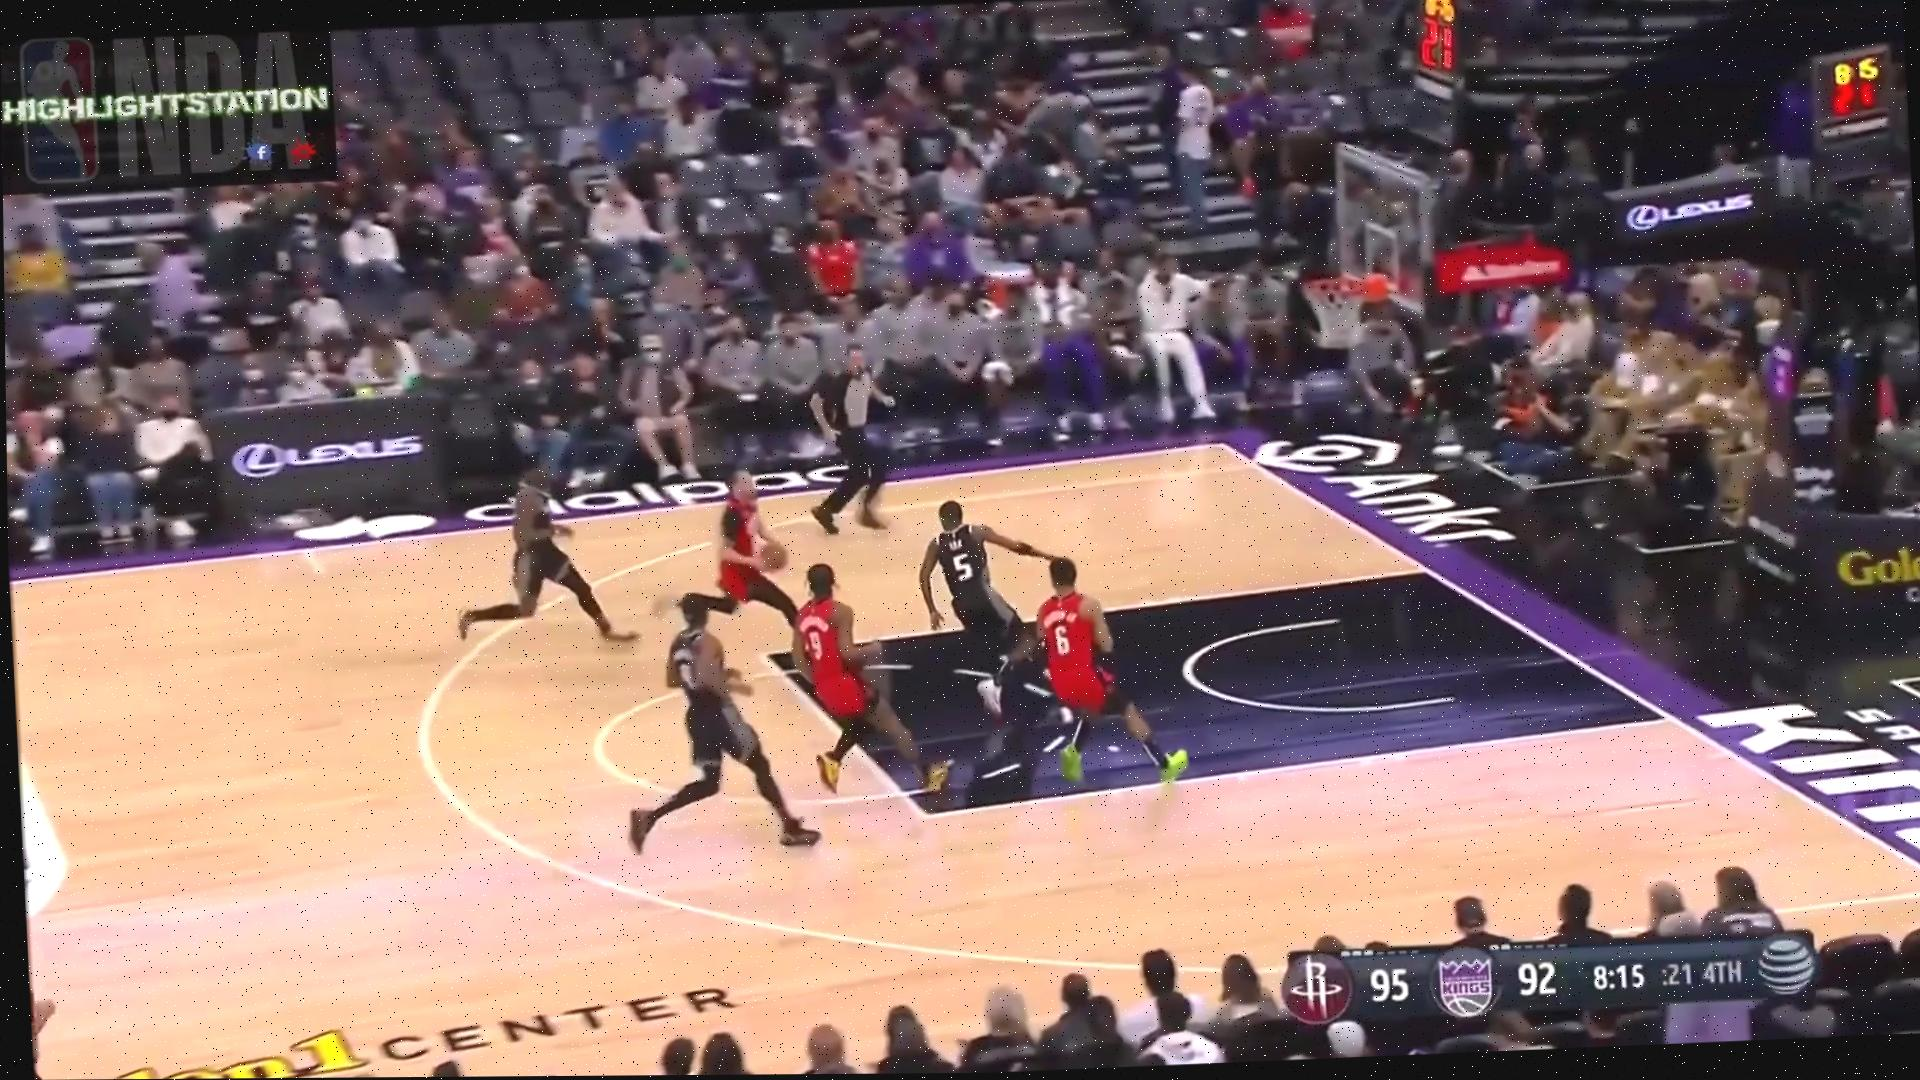no_foul: (924, 485, 1170, 799)
